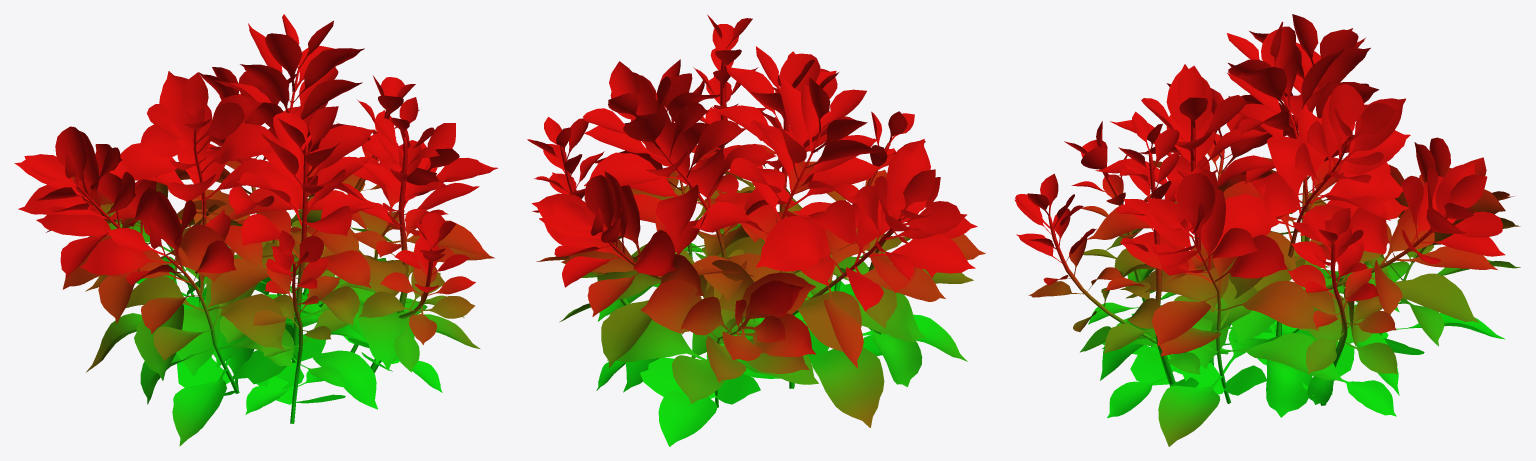
The model's file is Var7_LOD0.fbx.
The picture shows the model from 3 angles, left to right: view 1: azimuth 30°, elevation 25°; view 2: azimuth 150°, elevation 25°; view 3: azimuth 270°, elevation 25°; orthographic projection. The views are drawn at different scales.
Parts seen in each view (by area): view 1: _vc69_Var7_LOD0; view 2: _vc69_Var7_LOD0; view 3: _vc69_Var7_LOD0.
Part boxes in pixels (<box>): _vc69_Var7_LOD0: <box>14,14,498,446</box>; _vc69_Var7_LOD0: <box>527,14,985,446</box>; _vc69_Var7_LOD0: <box>1014,14,1520,446</box>.
Bounding box in the file's own units: 94.31 × 70.7 × 98.47.
